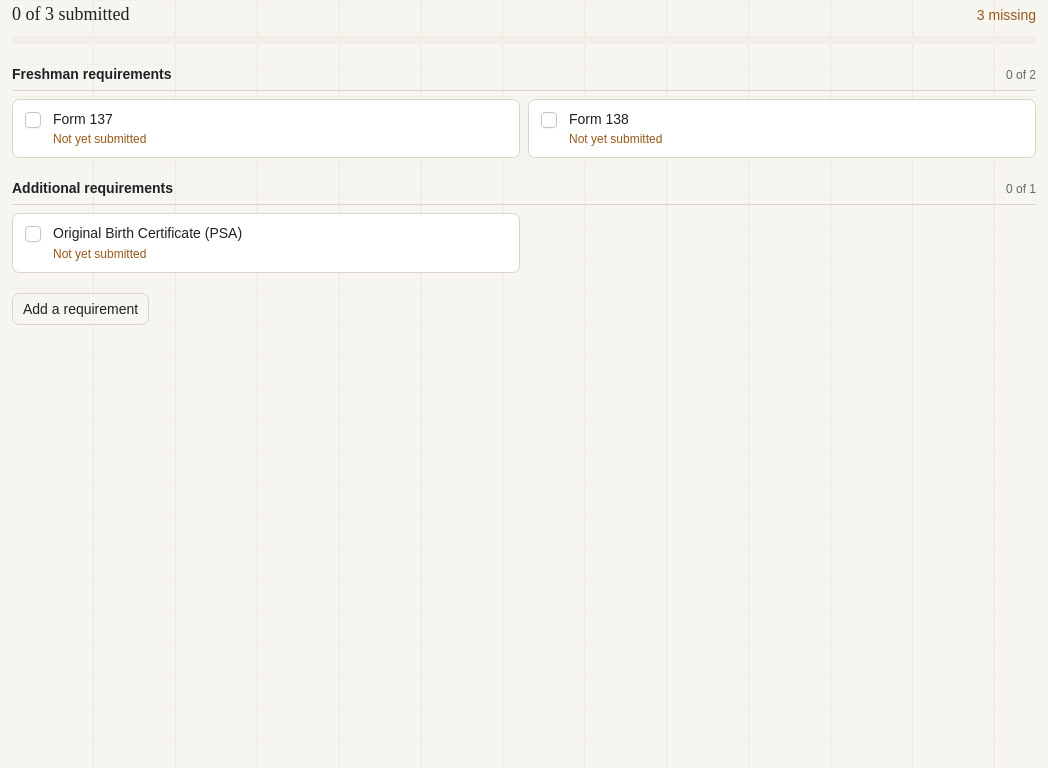
Scenario: AdmissionRequirementsChecklist › asks for at least two characters before adding
The width and height of the screenshot is (1048, 768).
Check: the text "0 of 3 submitted" is shown, box 12,0 -> 130,28
Click the button "Add a requirement".
click(81, 308)  # box 12,292 -> 149,324
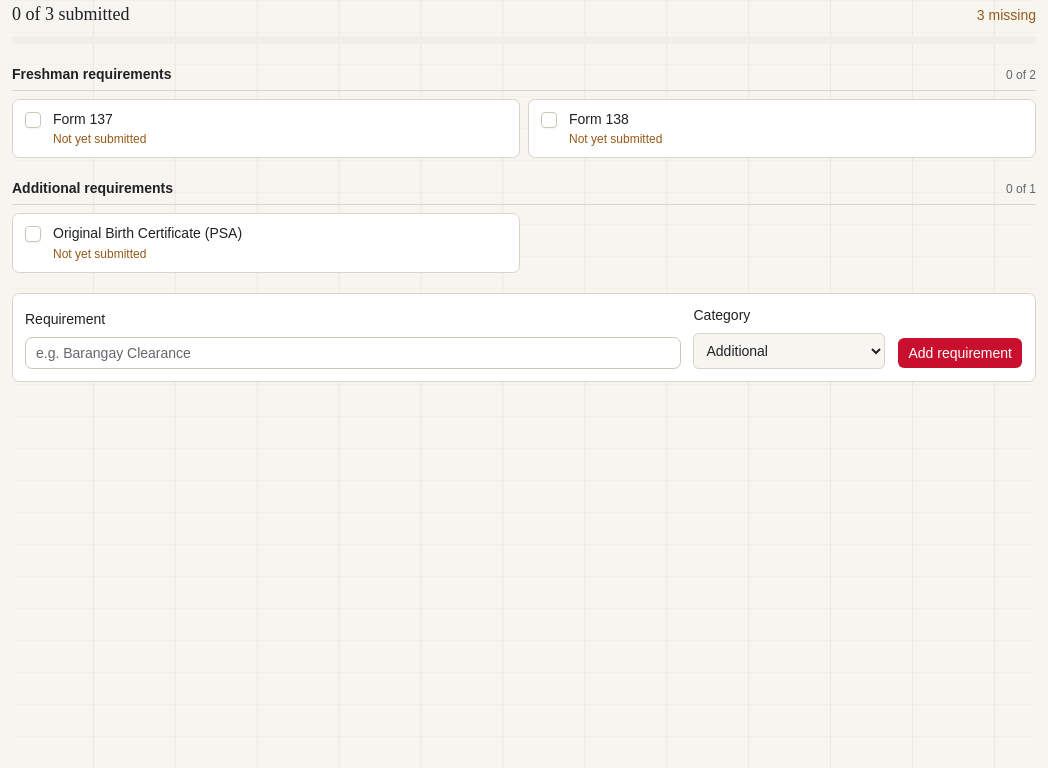
Type "x" into the field labelled "Requirement".
click(353, 353); type("x")  # box 25,337 -> 682,369
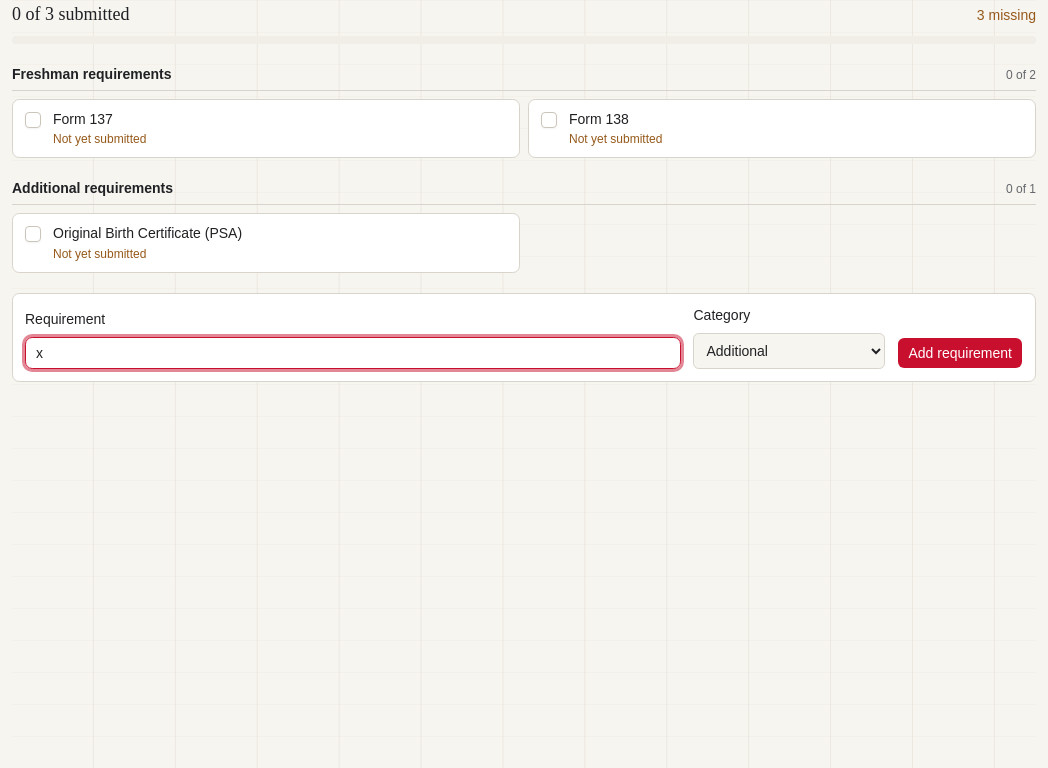
Click the button "Add requirement".
click(960, 353)  # box 898,337 -> 1023,369
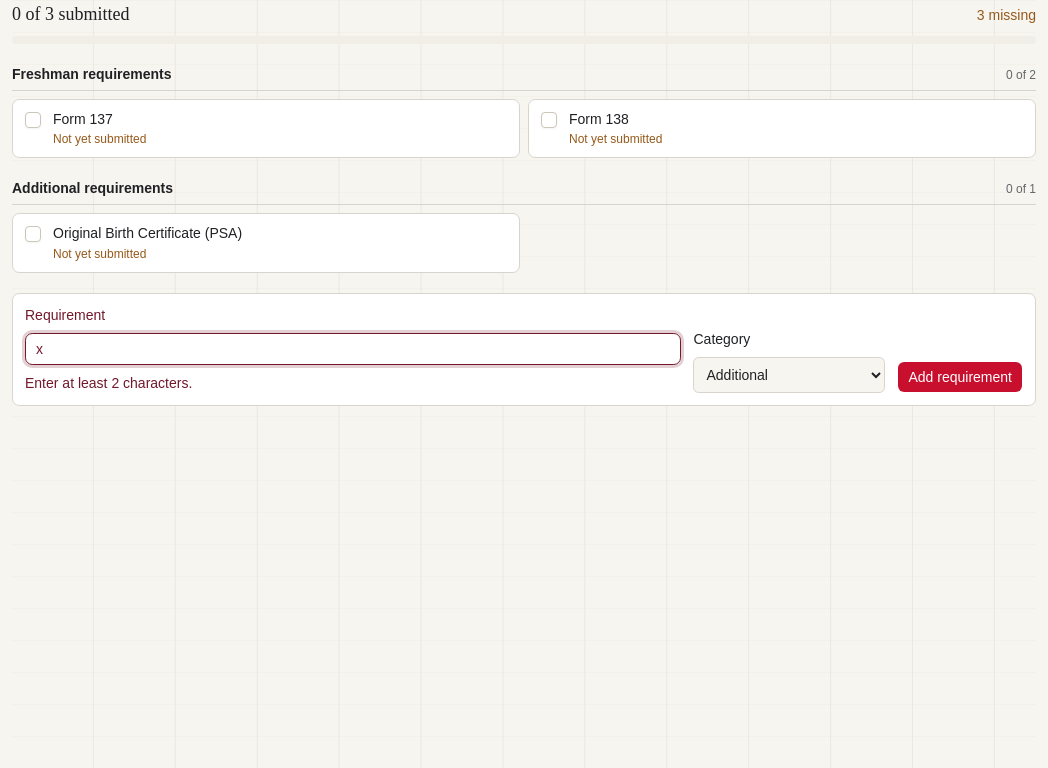
Check: the text "Enter at least 2 characters." is shown, box 25,375 -> 192,391
